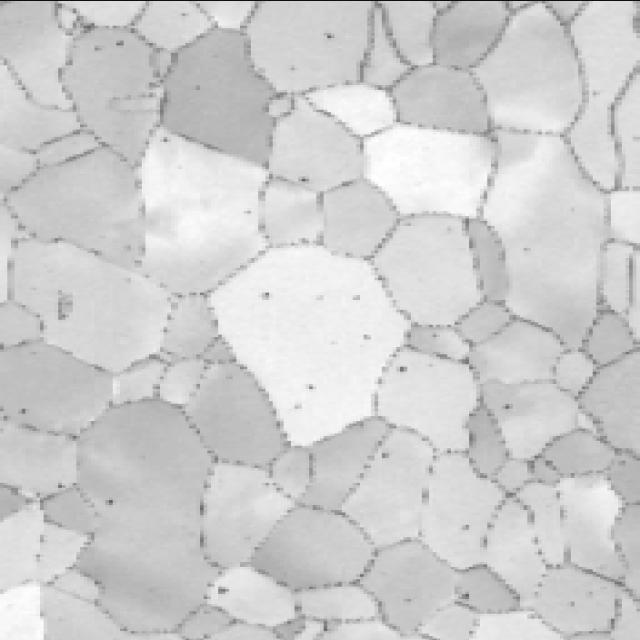good_void: (292, 172, 313, 183), (301, 382, 321, 393), (112, 37, 130, 49), (256, 286, 271, 300), (355, 332, 374, 343), (210, 584, 231, 593), (318, 31, 338, 40), (347, 293, 367, 301), (498, 402, 512, 412), (99, 499, 117, 506), (397, 365, 412, 373), (290, 403, 308, 409), (241, 207, 253, 216), (161, 135, 174, 143), (459, 591, 470, 600), (458, 522, 472, 529), (54, 479, 66, 487), (377, 451, 388, 459)
